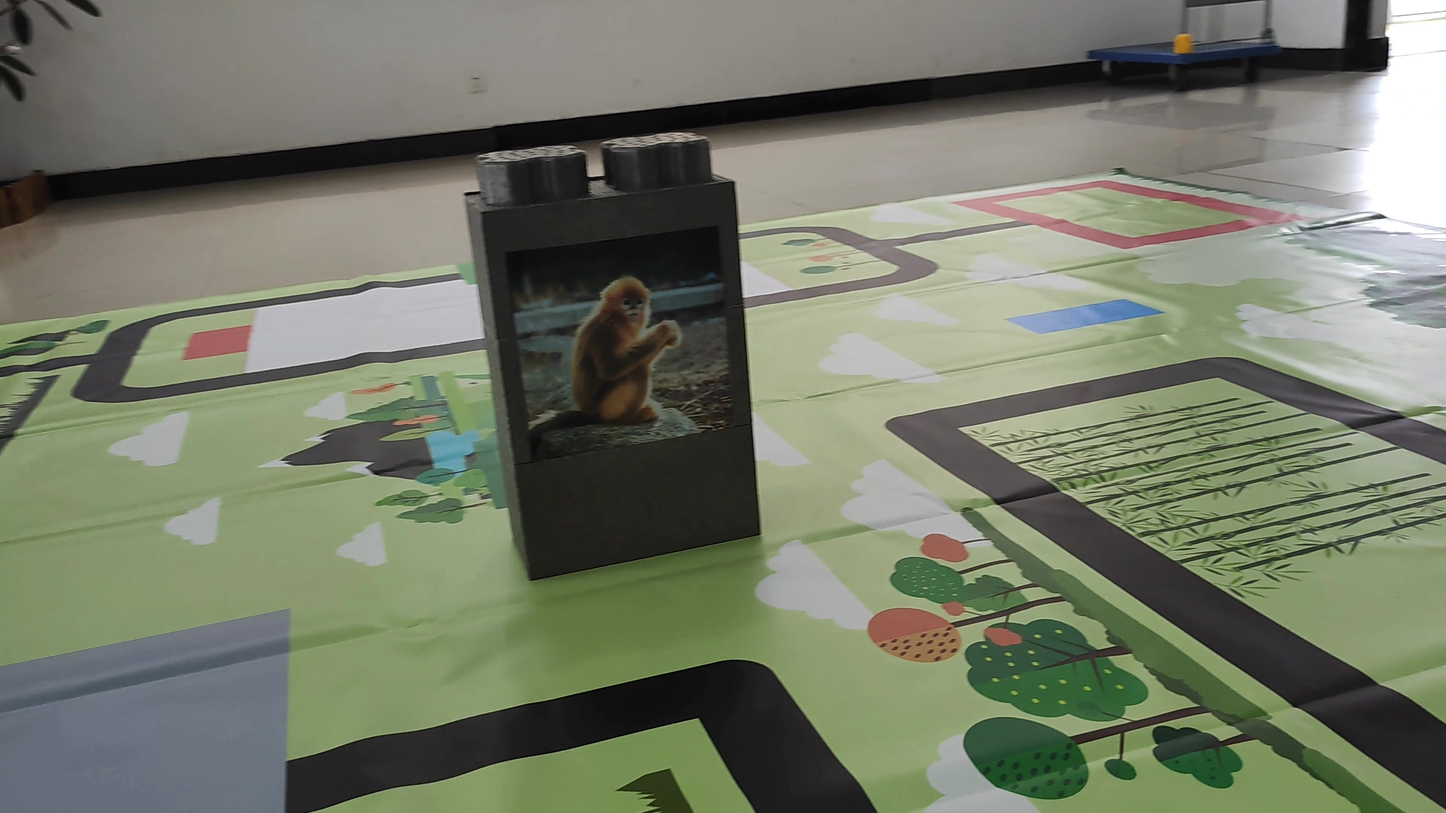monkey: (529, 271, 708, 452)
